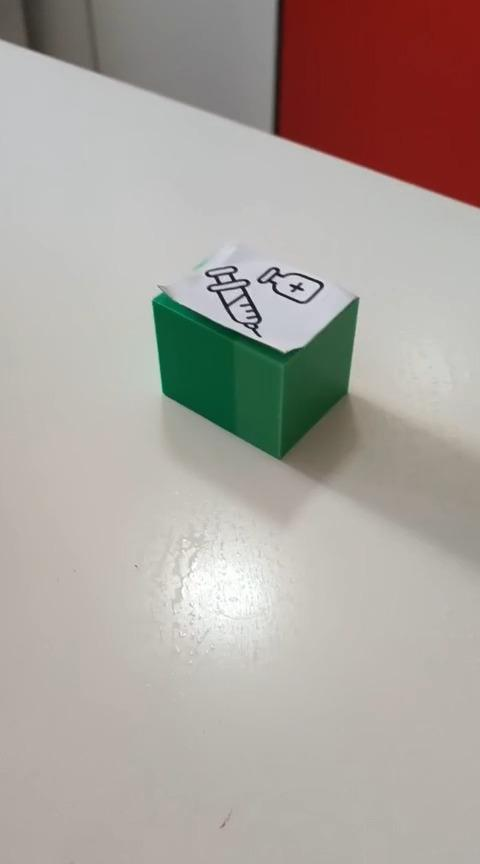antiseptic cream: (150, 240, 360, 460)
